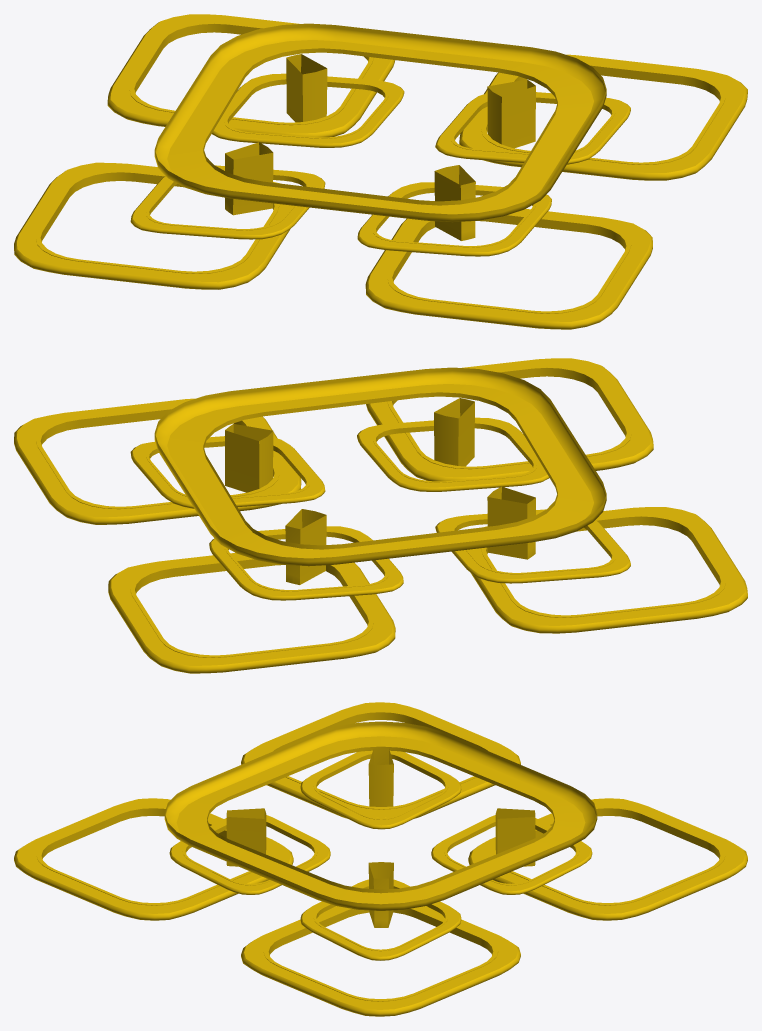
File: FancyCeilingLight_mesh.fbx
The picture shows the model from 3 angles, top to bottom: view 1: azimuth 30°, elevation 25°; view 2: azimuth 150°, elevation 25°; view 3: azimuth 270°, elevation 25°; orthographic projection. The views are drawn at different scales.
Parts seen in each view (by area): view 1: FancyCeilingLight_mesh; view 2: FancyCeilingLight_mesh; view 3: FancyCeilingLight_mesh.
Part boxes in pixels (box(x1,y1,x2,y2)): FancyCeilingLight_mesh: box(14, 14, 747, 329); FancyCeilingLight_mesh: box(14, 358, 747, 673); FancyCeilingLight_mesh: box(14, 702, 747, 1016).
Size of the model in its own units: 229802 by 229802 by 17421.
